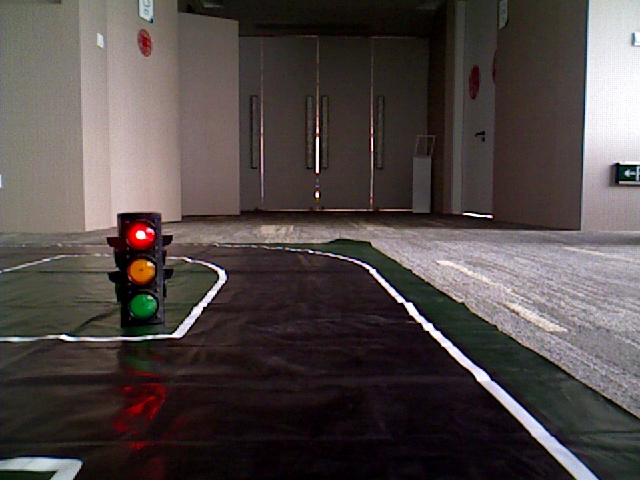red: (118, 216, 159, 319)
